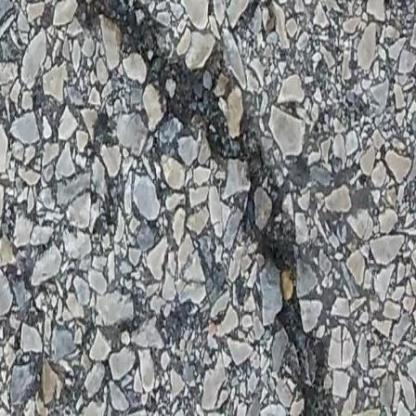Cracks: (60, 0, 337, 416)
